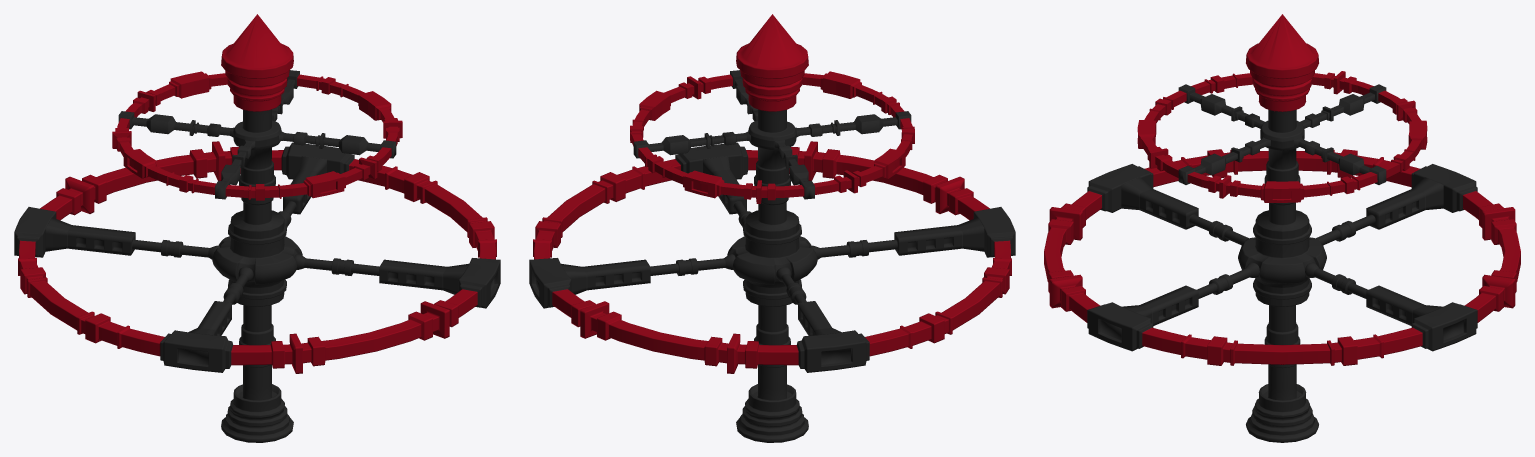
File: situation_red.glb
3 views of the same model, side by side, from view 1: azimuth 30°, elevation 25°; view 2: azimuth 150°, elevation 25°; view 3: azimuth 270°, elevation 25° (orthographic).
Parts seen in each view (by area): view 1: external_smaller; view 2: external_smaller; view 3: external_smaller.
Part boxes in pixels (x1=…): external_smaller: x1=14, y1=14, x2=500, y2=442; external_smaller: x1=529, y1=14, x2=1015, y2=442; external_smaller: x1=1044, y1=14, x2=1520, y2=442.
Size of the model in its own units: 7.45 by 7.14 by 7.45.
